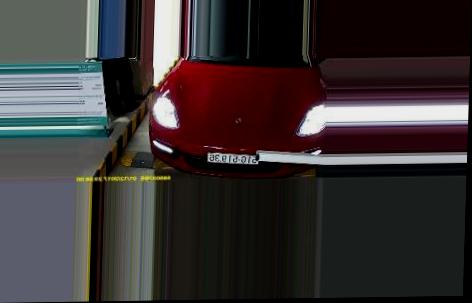License_Plate: (203, 150, 261, 166)
